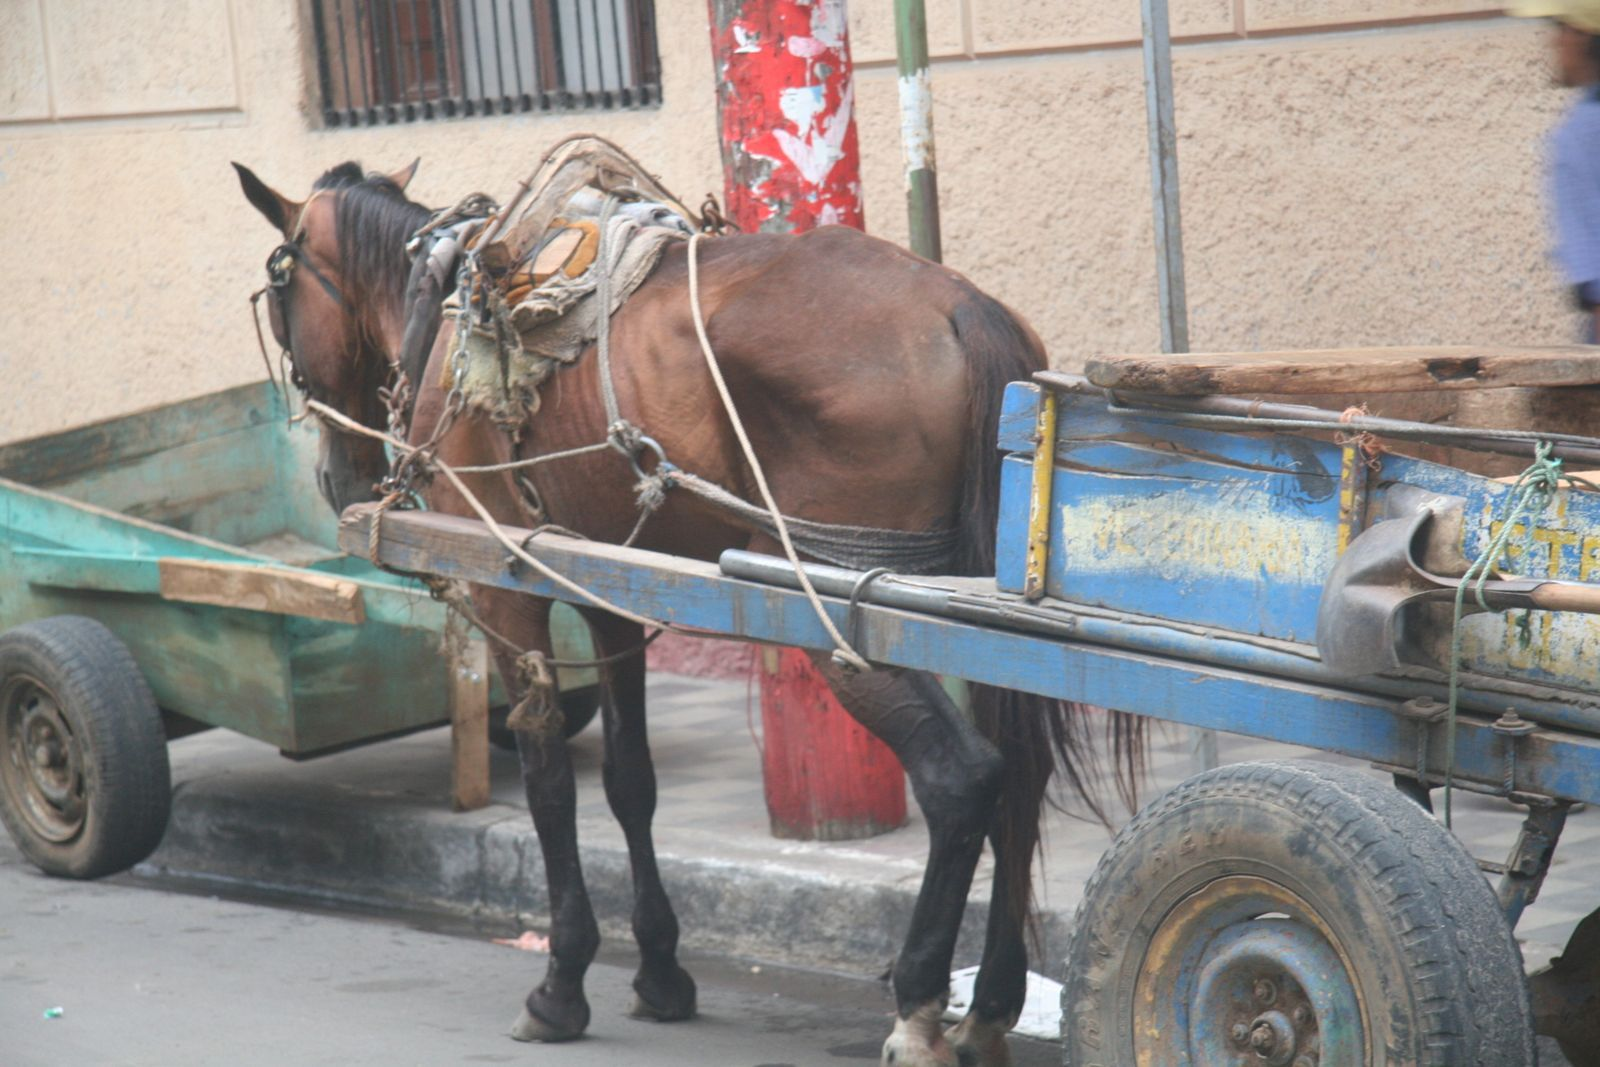horse: (238, 141, 1101, 1067)
